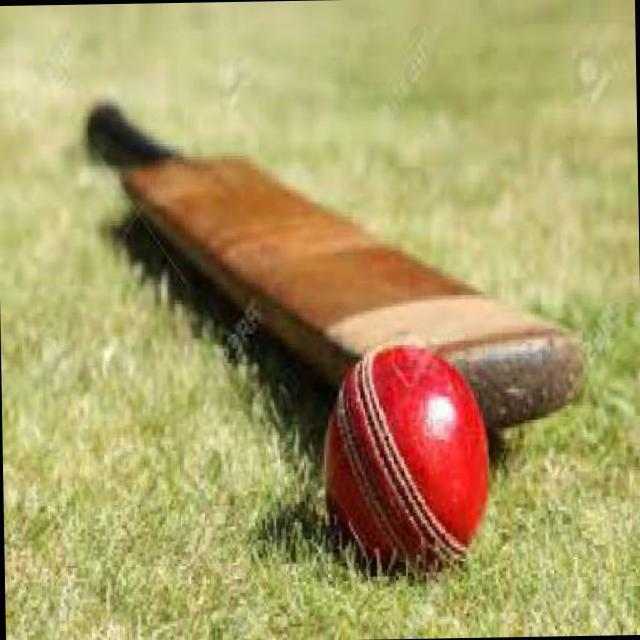-: (309, 350, 458, 591)
